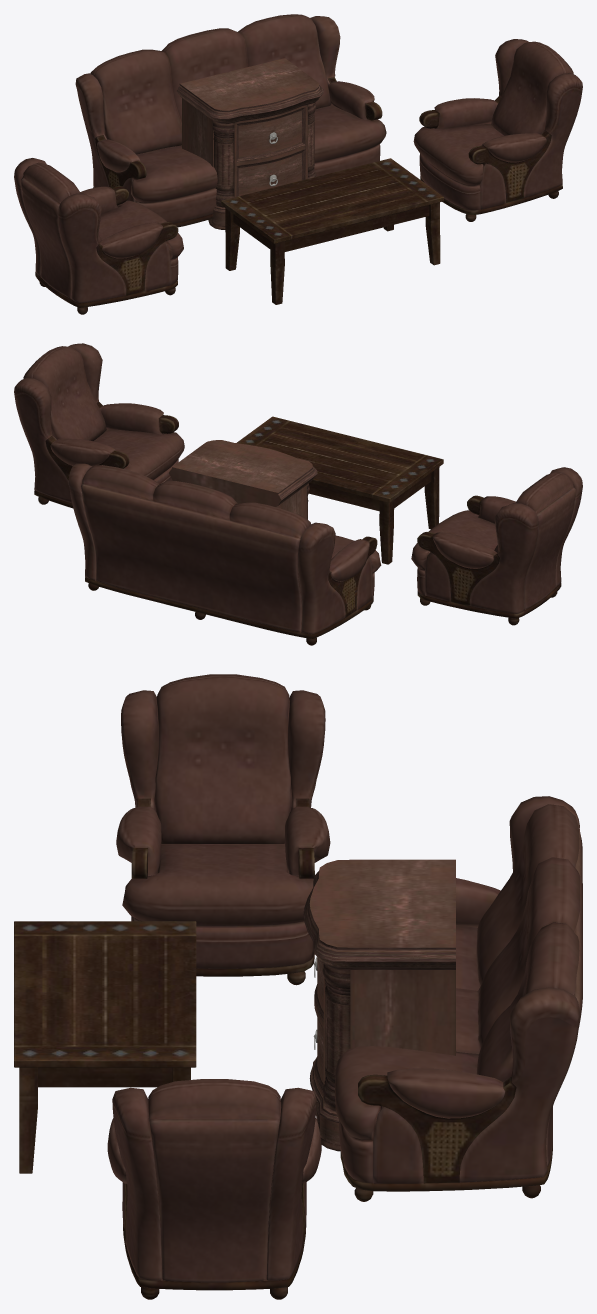
Rendered from world.glb.
3 views of the same model, one above another, from view 1: azimuth 30°, elevation 25°; view 2: azimuth 150°, elevation 25°; view 3: azimuth 270°, elevation 25° (orthographic). The views are drawn at different scales.
Parts seen in each view (by area): view 1: sofa_classic_ch_models__textile_0, armchair_classic_ch_models_armchair_classic_ch_models_01_tex, Dresser_01, table_low, armchair_classic_ch_models_armchair_classic_ch_models_textil, armchair_classic_ch_models_armchair_classic_ch_models_01_woo, armchair_classic_ch_models_armchair_classic_ch_models_wood_0, sofa_classic_ch_models__wood_0; view 2: sofa_classic_ch_models__textile_0, armchair_classic_ch_models_armchair_classic_ch_models_textil, armchair_classic_ch_models_armchair_classic_ch_models_01_tex, table_low, Dresser_01, armchair_classic_ch_models_armchair_classic_ch_models_wood_0, sofa_classic_ch_models__wood_0, armchair_classic_ch_models_armchair_classic_ch_models_01_woo; view 3: armchair_classic_ch_models_armchair_classic_ch_models_textil, sofa_classic_ch_models__textile_0, armchair_classic_ch_models_armchair_classic_ch_models_01_tex, table_low, Dresser_01, sofa_classic_ch_models__wood_0, armchair_classic_ch_models_armchair_classic_ch_models_wood_0, armchair_classic_ch_models_armchair_classic_ch_models_01_woo.
Boxes of the visible parts, x1,y1,x2,y2 form: sofa_classic_ch_models__textile_0: [75, 14, 386, 223]; armchair_classic_ch_models_armchair_classic_ch_models_01_tex: [413, 39, 582, 210]; Dresser_01: [176, 58, 323, 229]; table_low: [221, 158, 444, 304]; armchair_classic_ch_models_armchair_classic_ch_models_textil: [14, 158, 183, 303]; armchair_classic_ch_models_armchair_classic_ch_models_01_woo: [419, 96, 562, 221]; armchair_classic_ch_models_armchair_classic_ch_models_wood_0: [35, 186, 178, 314]; sofa_classic_ch_models__wood_0: [93, 77, 382, 227]; sofa_classic_ch_models__textile_0: [68, 463, 381, 634]; armchair_classic_ch_models_armchair_classic_ch_models_textil: [411, 467, 582, 613]; armchair_classic_ch_models_armchair_classic_ch_models_01_tex: [14, 343, 184, 503]; table_low: [236, 416, 443, 564]; Dresser_01: [169, 440, 317, 519]; armchair_classic_ch_models_armchair_classic_ch_models_wood_0: [417, 495, 561, 625]; sofa_classic_ch_models__wood_0: [85, 536, 377, 645]; armchair_classic_ch_models_armchair_classic_ch_models_01_woo: [34, 401, 178, 508]; armchair_classic_ch_models_armchair_classic_ch_models_textil: [116, 674, 330, 968]; sofa_classic_ch_models__textile_0: [335, 796, 582, 1183]; armchair_classic_ch_models_armchair_classic_ch_models_01_tex: [107, 1079, 321, 1282]; table_low: [14, 921, 196, 1173]; Dresser_01: [303, 859, 455, 1151]; sofa_classic_ch_models__wood_0: [340, 1074, 552, 1201]; armchair_classic_ch_models_armchair_classic_ch_models_wood_0: [131, 798, 314, 985]; armchair_classic_ch_models_armchair_classic_ch_models_01_woo: [123, 1183, 306, 1299].
Bounding box in the file's own units: 387 × 97.48 × 215.
Materials: 47 (43 with a texture image).
